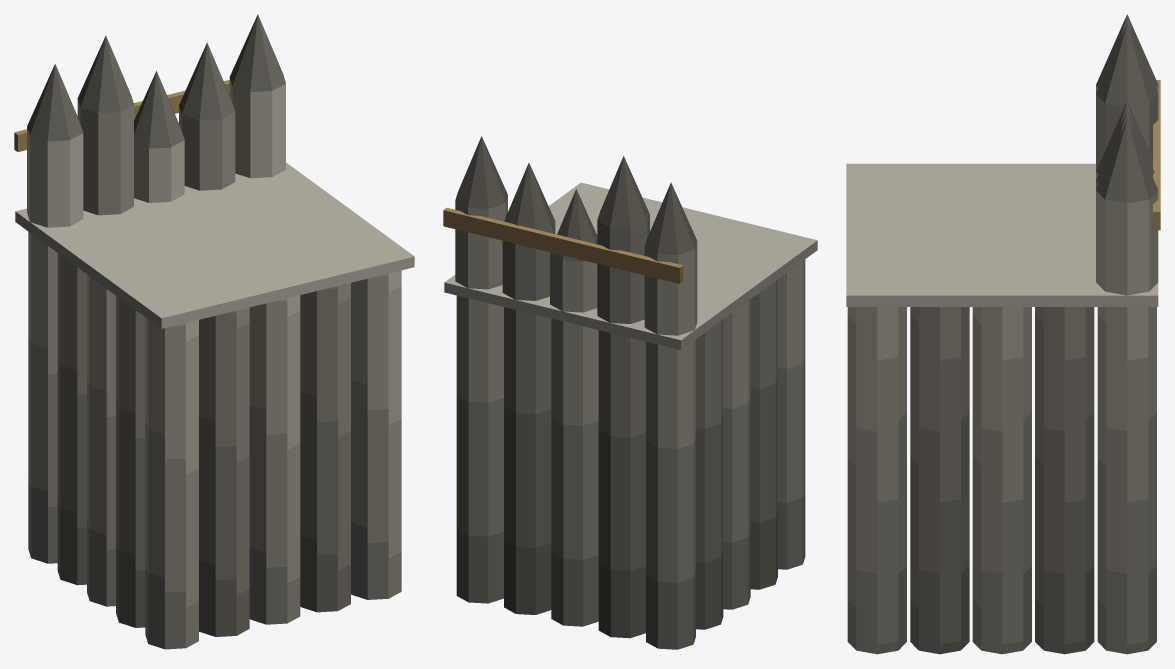
Rendered from perimeter_wall_stone_f14.glb.
3 renders of one model, left to right at view 1: azimuth 30°, elevation 25°; view 2: azimuth 150°, elevation 25°; view 3: azimuth 270°, elevation 25°, orthographic. The views are drawn at different scales.
Bounding box in the file's own units: 2 × 3.9 × 2.01.
1 material, 1 textured.
